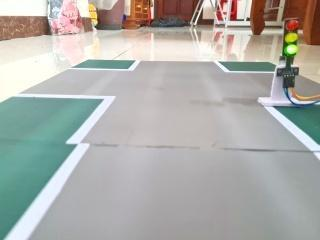green: (278, 11, 302, 65)
